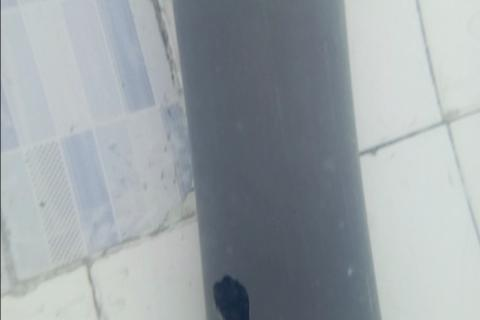kebocoran: (210, 272, 250, 320)
